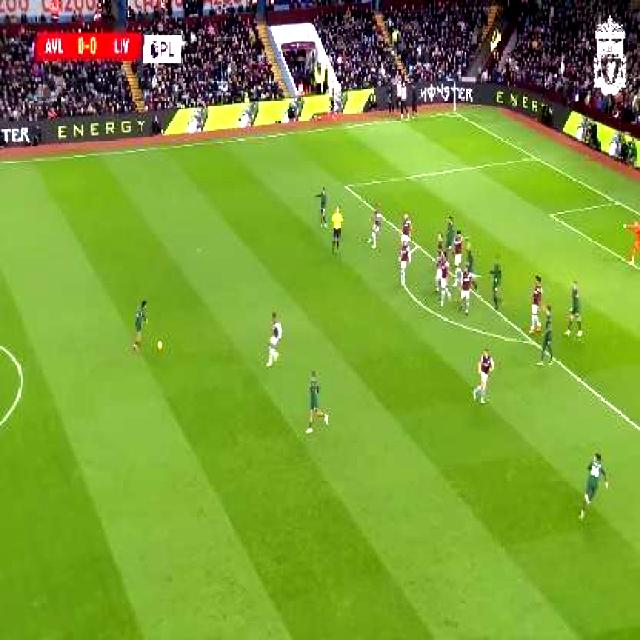bigarea_top_inner: (337, 175, 352, 194)
bigarea_top_outter: (528, 149, 542, 165)
bottom_arc_area_intersection: (524, 332, 538, 350)
corner: (443, 105, 460, 118)
smallarea_top_inner: (543, 205, 559, 223)
smallarea_top_outter: (610, 192, 624, 211)
top_arc_area_intersection: (409, 235, 423, 254)
